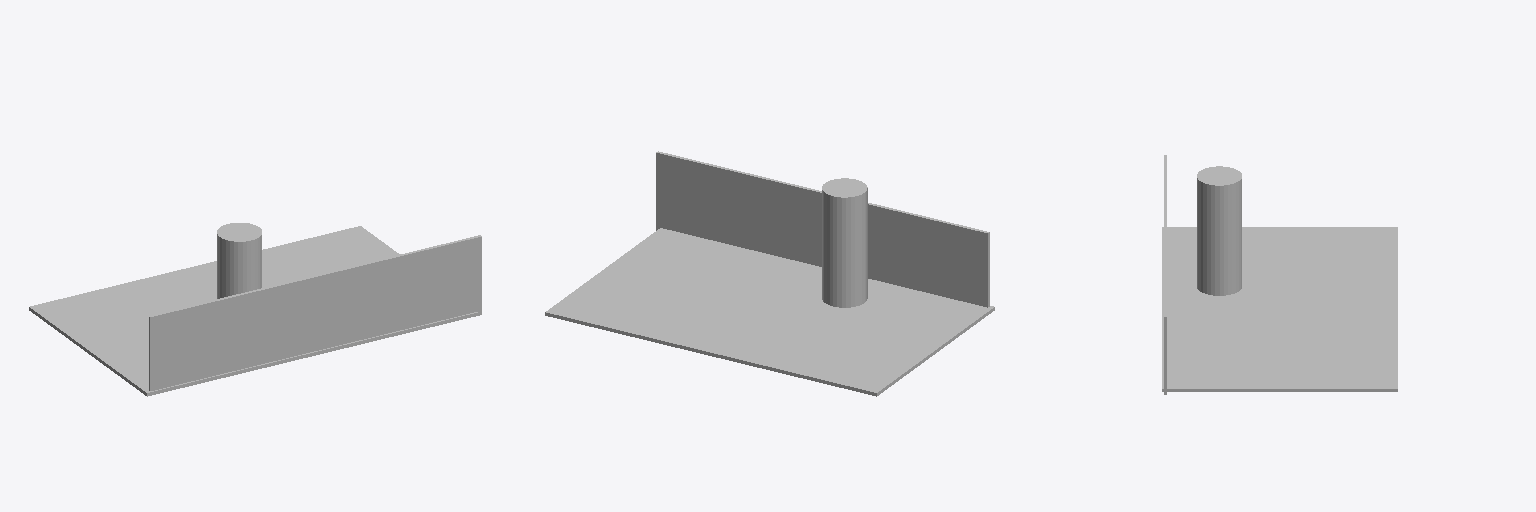
The model's file is floorold.obj.
3 views of the same model, side by side, from view 1: azimuth 30°, elevation 25°; view 2: azimuth 150°, elevation 25°; view 3: azimuth 270°, elevation 25° (orthographic).
Parts seen in each view (by area): view 1: Cube.001, Cube, Cylinder; view 2: Cube, Cube.001, Cylinder; view 3: Cube, Cylinder, Cube.001.
Boxes of the visible parts, x1=… form: Cube.001: x1=149, y1=235, x2=481, y2=390; Cube: x1=29, y1=226, x2=478, y2=396; Cylinder: x1=217, y1=223, x2=261, y2=298; Cube: x1=545, y1=228, x2=994, y2=396; Cube.001: x1=656, y1=151, x2=989, y2=307; Cylinder: x1=822, y1=178, x2=867, y2=307; Cube: x1=1162, y1=227, x2=1397, y2=391; Cylinder: x1=1197, y1=166, x2=1241, y2=295; Cube.001: x1=1164, y1=155, x2=1166, y2=394.
Size of the model in its own units: 40.52 by 13.2 by 24.67.